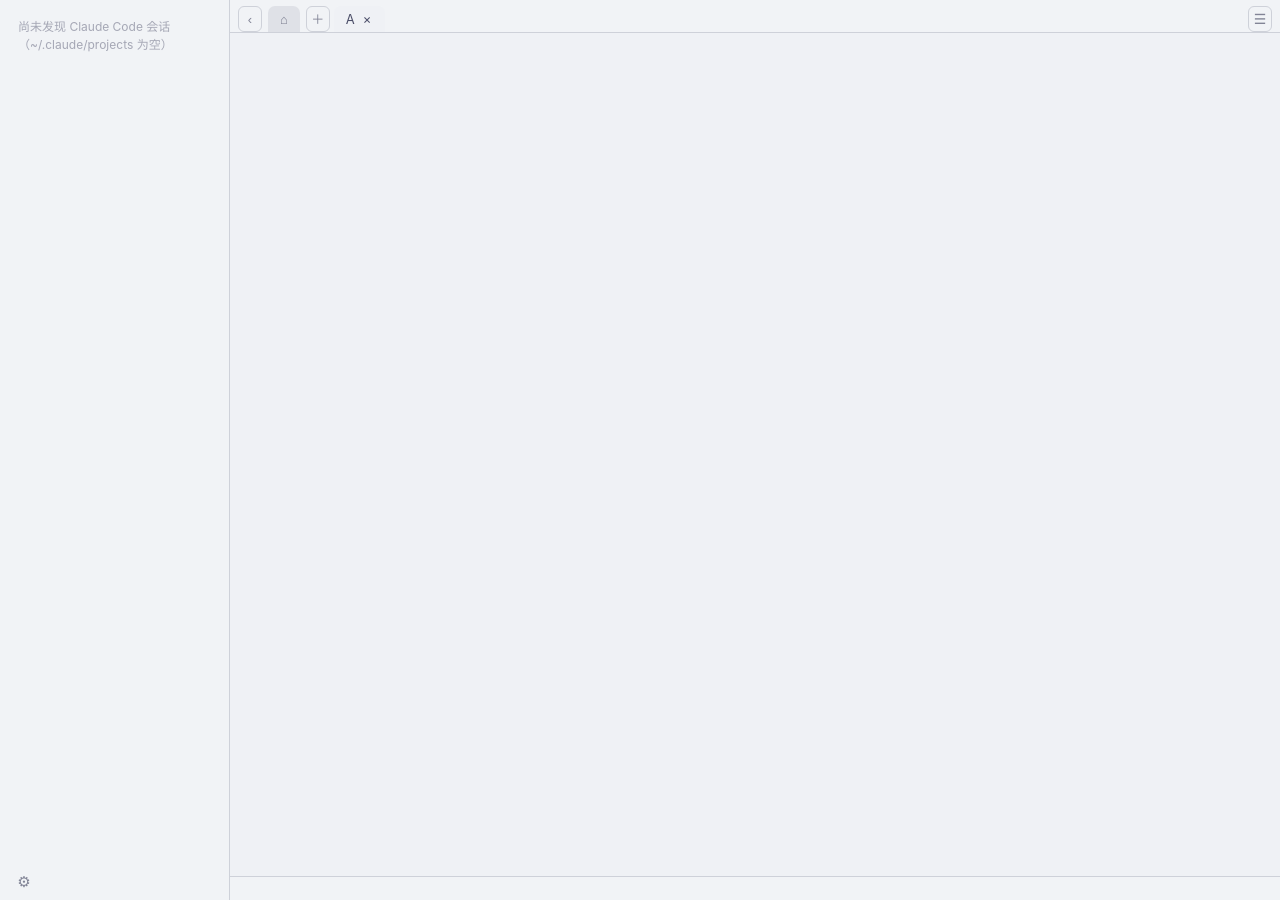
Test case: TabBar — 标签右键菜单（拆分为独立标签 / 关闭标签） › 单窗格标签：菜单只有「关闭标签」，没有「拆分为独立标签」这一项
Right-click the text "A": (360, 19) 334,6 -> 386,32
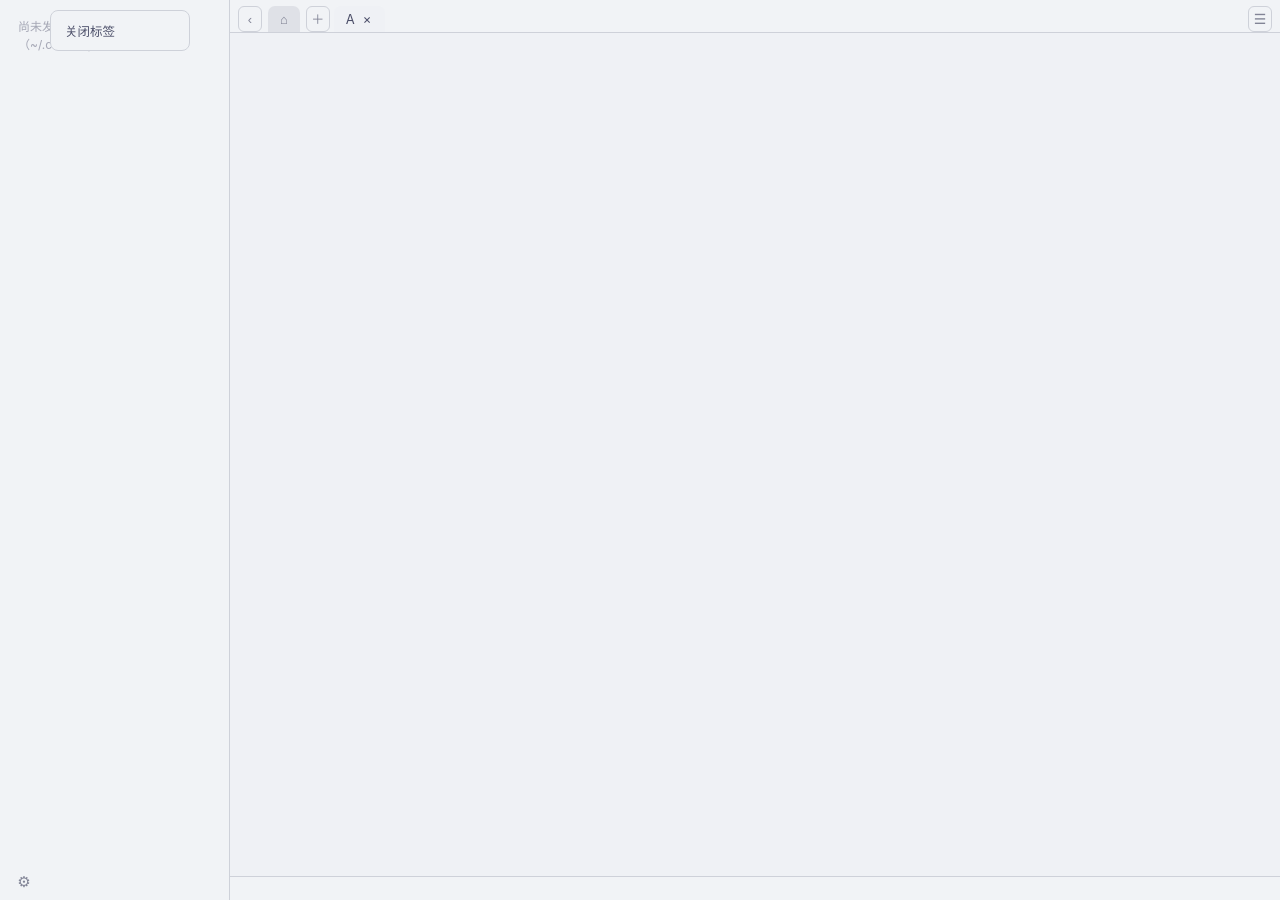
Expected: the menu item "关闭标签" is shown, 65,24 -> 115,39
